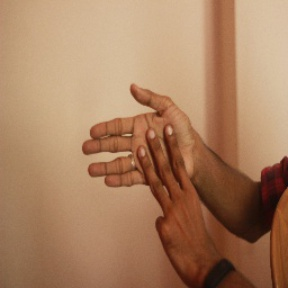M: (76, 79, 206, 228)
